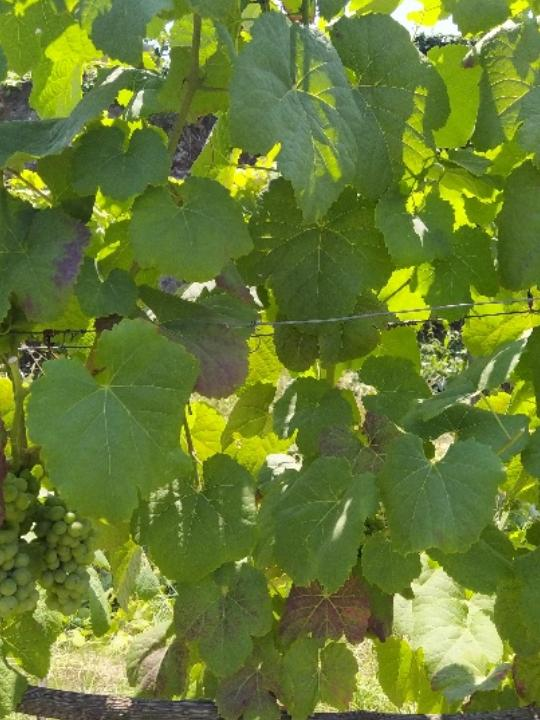grape: (39, 493, 97, 617), (0, 469, 41, 619)
